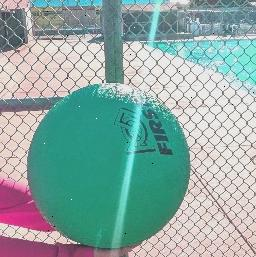algae: (25, 84, 192, 247)
